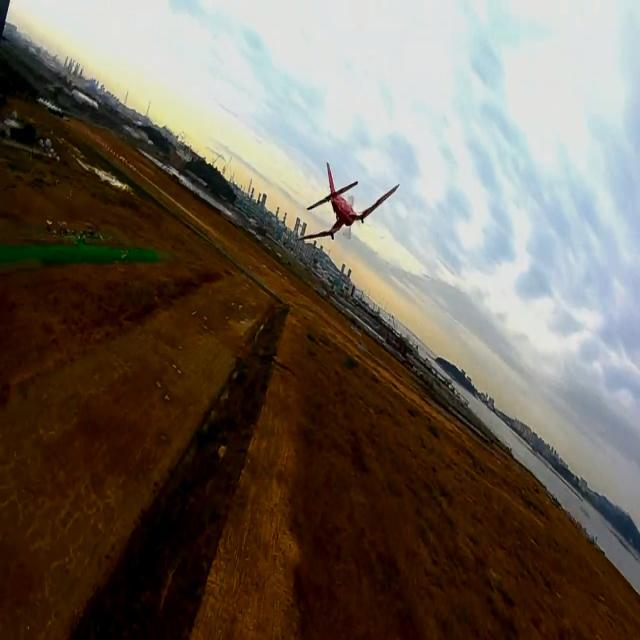iha: (328, 186, 370, 206)
